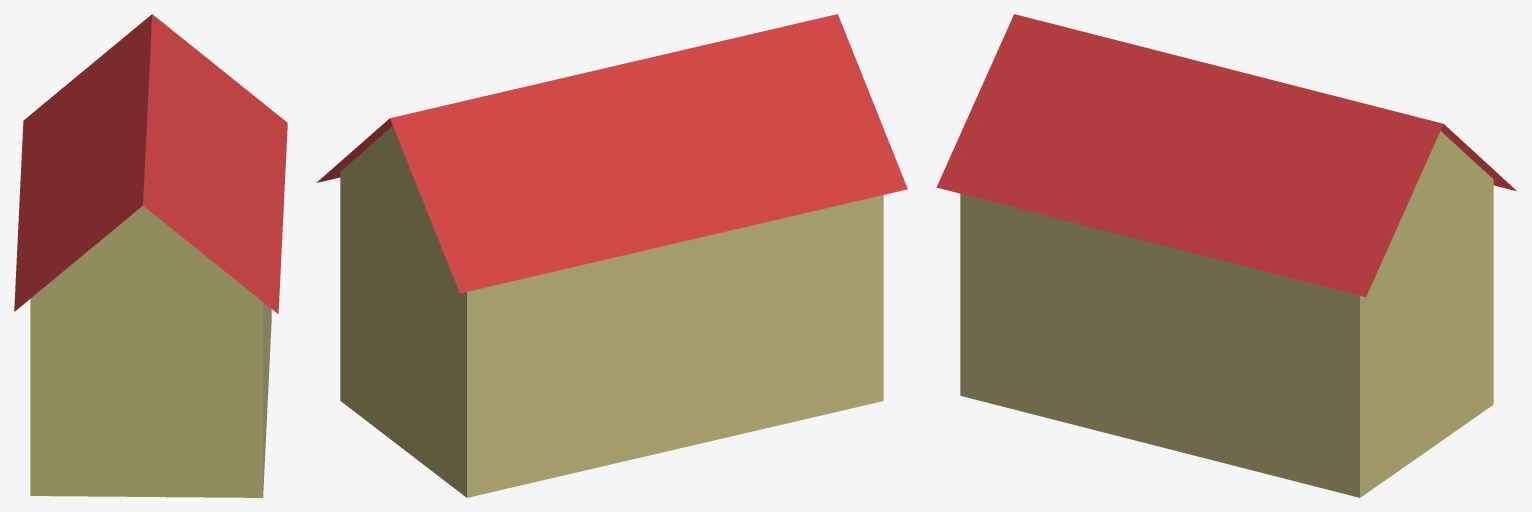
3 views of the same model, side by side, from view 1: azimuth 30°, elevation 25°; view 2: azimuth 150°, elevation 25°; view 3: azimuth 270°, elevation 25° (orthographic). The views are drawn at different scales.
Visible parts, largest first — view 1: group_5, group_3, group_4; view 2: group_5, group_3, group_4; view 3: group_5, group_3, group_4.
Boxes of the visible parts, left/top/right/bottom form: group_5: left=30, top=206, right=271, bottom=497; group_3: left=14, top=14, right=287, bottom=312; group_4: left=14, top=14, right=278, bottom=313; group_5: left=340, top=126, right=883, bottom=497; group_3: left=379, top=17, right=907, bottom=268; group_4: left=316, top=14, right=907, bottom=293; group_5: left=960, top=131, right=1493, bottom=497; group_3: left=937, top=14, right=1516, bottom=297; group_4: left=936, top=15, right=1443, bottom=241.
Bounding box in the file's own units: 21.93 × 24.96 × 15.64.
